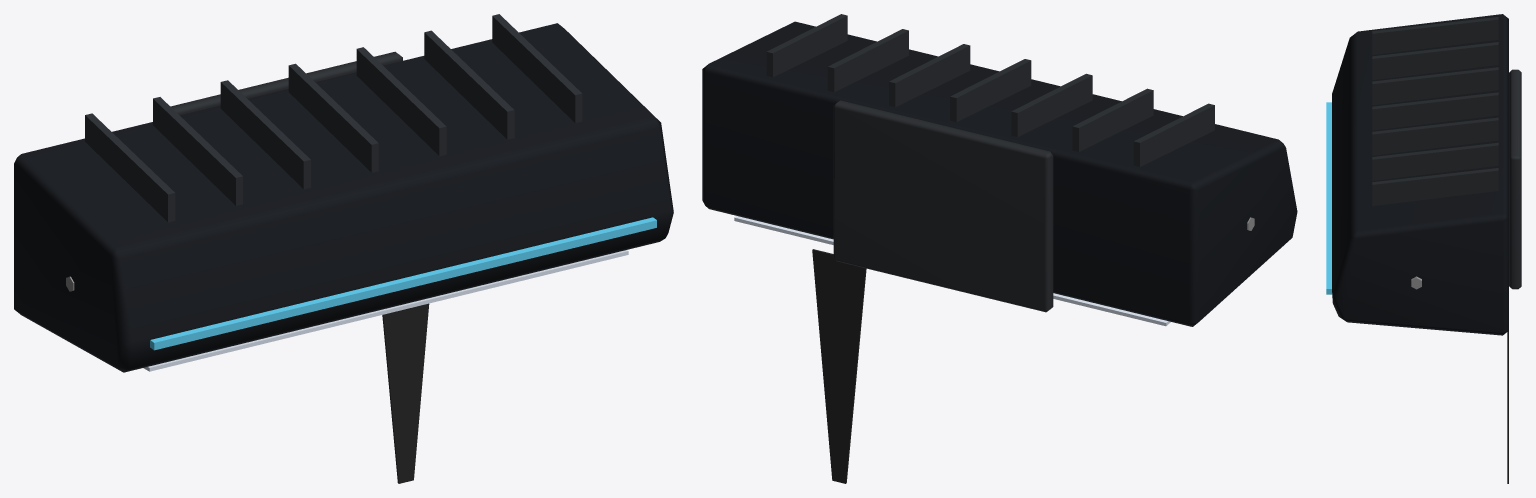
File: Wall_Lamp_LED.fbx
The picture shows the model from 3 angles, left to right: view 1: azimuth 30°, elevation 25°; view 2: azimuth 150°, elevation 25°; view 3: azimuth 270°, elevation 25°; orthographic projection. The views are drawn at different scales.
Visible parts, largest first — view 1: Wall_Lamp_LED_LOD0; view 2: Wall_Lamp_LED_LOD0; view 3: Wall_Lamp_LED_LOD0.
Part boxes in pixels (x1,y1,x2,y2): Wall_Lamp_LED_LOD0: [14, 14, 673, 483]; Wall_Lamp_LED_LOD0: [702, 14, 1297, 483]; Wall_Lamp_LED_LOD0: [1326, 14, 1521, 483].
Size of what is drawn, in the model's own units: 0.466 by 0.36 by 0.186.
